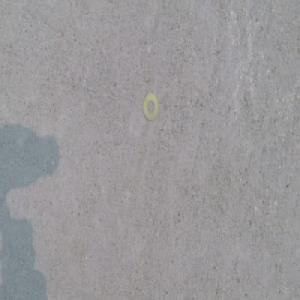Washer: (142, 93, 158, 122)
